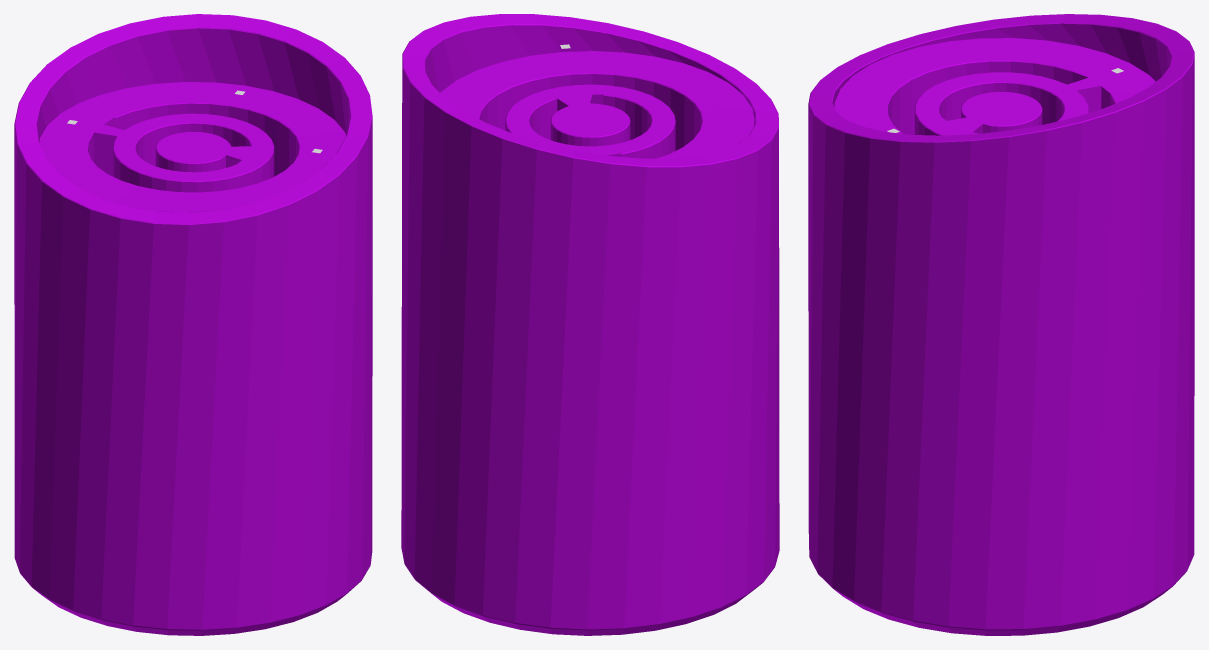
File: level-06.glb
3 renders of one model, left to right at view 1: azimuth 30°, elevation 25°; view 2: azimuth 150°, elevation 25°; view 3: azimuth 270°, elevation 25°, orthographic. The views are drawn at different scales.
Parts seen in each view (by area): view 1: Cylinder; view 2: Cylinder; view 3: Cylinder.
Boxes of the visible parts, x1,y1,x2,y2 form: Cylinder: [14, 14, 372, 635]; Cylinder: [401, 14, 779, 635]; Cylinder: [808, 14, 1194, 635].
Size of what is drawn, in the model's own units: 129 by 189 by 129.
